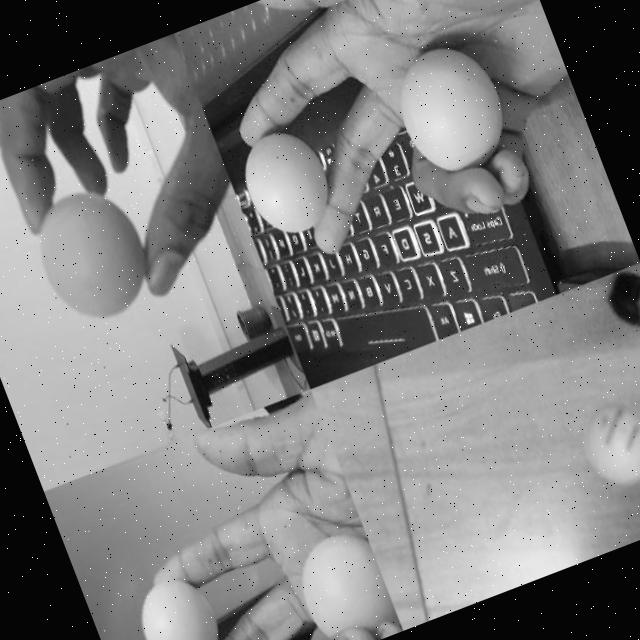ping-pong-ball: (19, 177, 162, 333), (380, 34, 518, 186), (230, 120, 340, 246), (285, 523, 400, 640), (126, 570, 229, 640), (572, 394, 640, 490)
